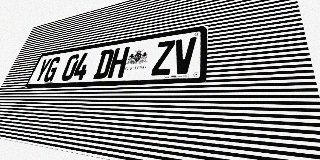0: (60, 54, 81, 81)
4: (71, 52, 93, 80)
D: (93, 49, 115, 79)
G: (42, 56, 62, 82)
H: (107, 46, 130, 78)
V: (172, 37, 197, 75)
Y: (33, 58, 52, 83)
Z: (151, 40, 175, 76)
